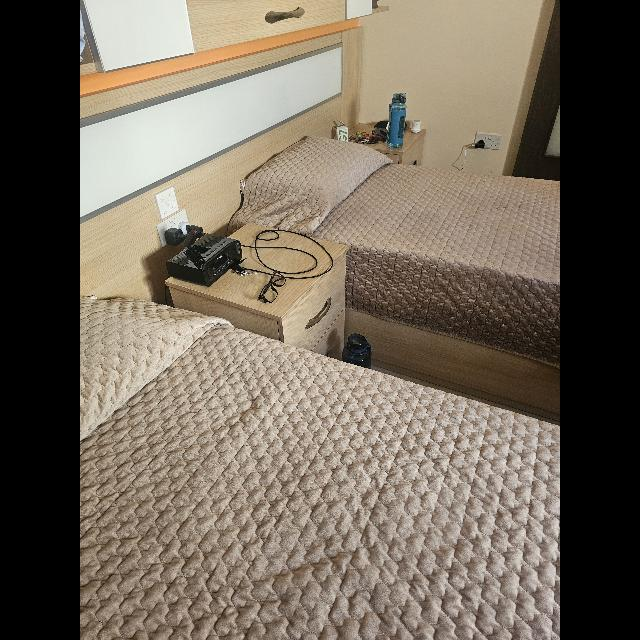glasses: (258, 272, 286, 304)
